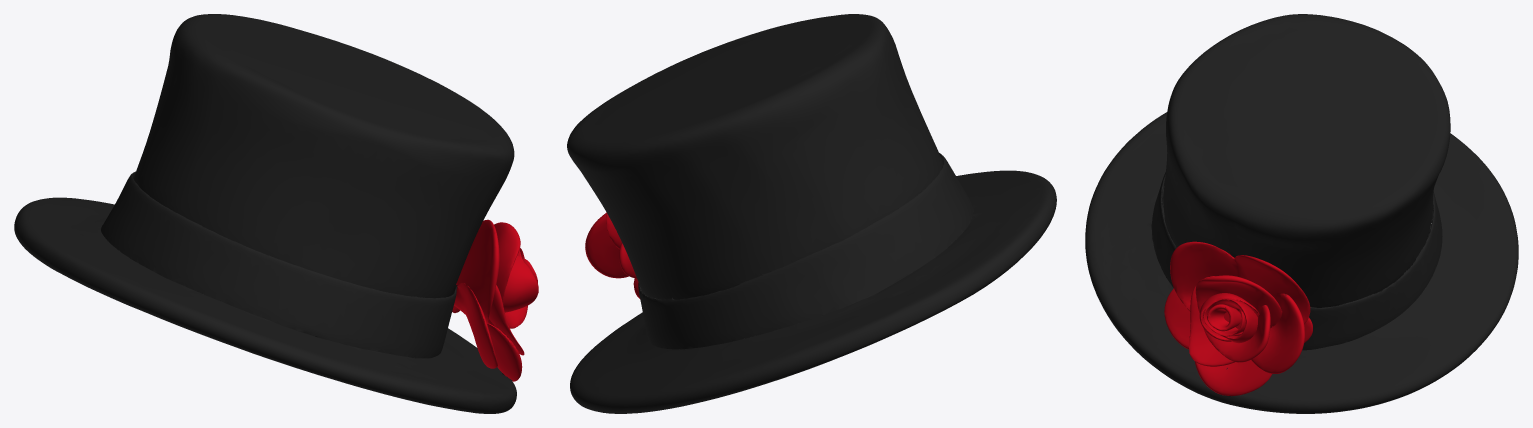
File: silk_hat.fbx
The picture shows the model from 3 angles, left to right: view 1: azimuth 30°, elevation 25°; view 2: azimuth 150°, elevation 25°; view 3: azimuth 270°, elevation 25°; orthographic projection. The views are drawn at different scales.
Parts seen in each view (by area): view 1: silk_hat; view 2: silk_hat; view 3: silk_hat.
Part boxes in pixels (left/top/right/bottom): silk_hat: left=14, top=14, right=538, bottom=413; silk_hat: left=567, top=14, right=1056, bottom=413; silk_hat: left=1085, top=14, right=1518, bottom=413.
Size of the model in its own units: 0.1938 by 0.1528 by 0.2013.
